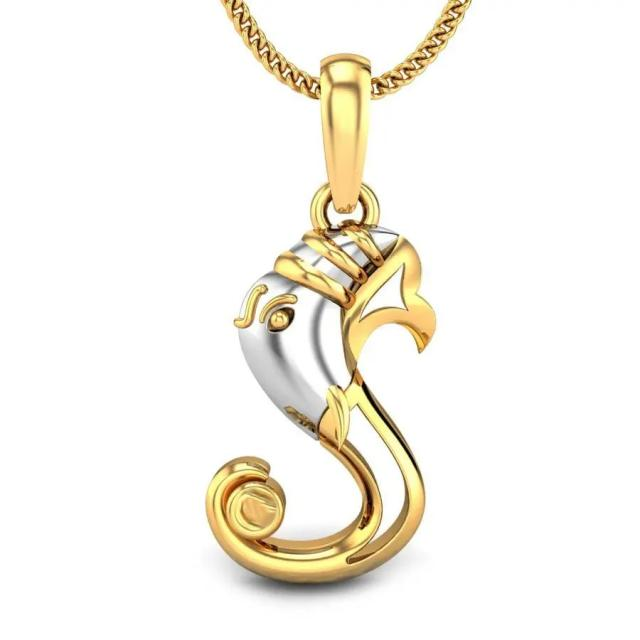missing gem: (235, 488, 276, 531)
